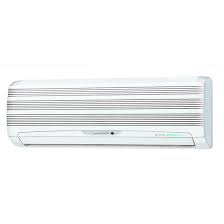ac: (6, 75, 222, 152)
